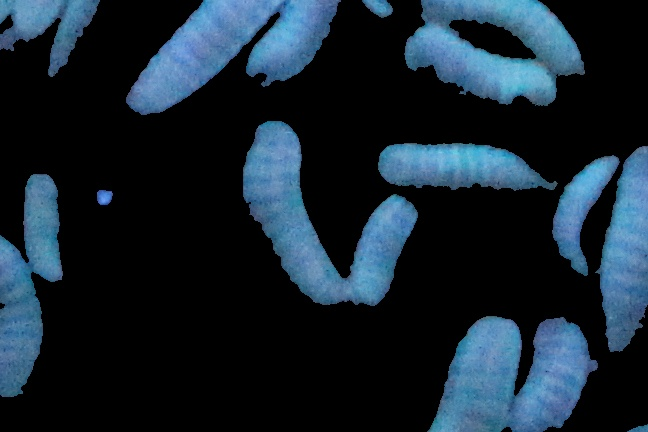larvae: (230, 122, 348, 306), (126, 1, 293, 115), (406, 21, 558, 108), (420, 1, 584, 78), (427, 310, 526, 432), (515, 315, 602, 432), (377, 142, 556, 190), (551, 154, 618, 276), (247, 1, 340, 87), (351, 193, 418, 309), (1, 236, 43, 404), (47, 1, 108, 85), (25, 175, 66, 280)
